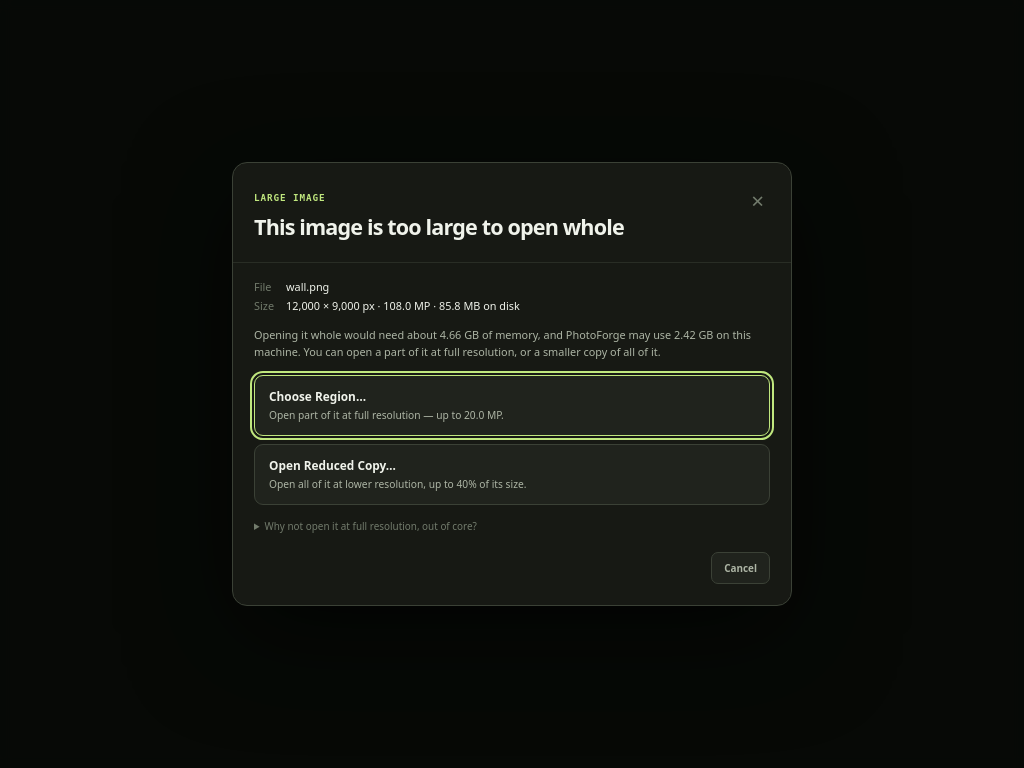
Test: oversized source dialog › opening a reduced copy › states that the copy has less resolution than the file
Click the button "Open Reduced Copy".
click(512, 474)  # box [254,444,770,505]
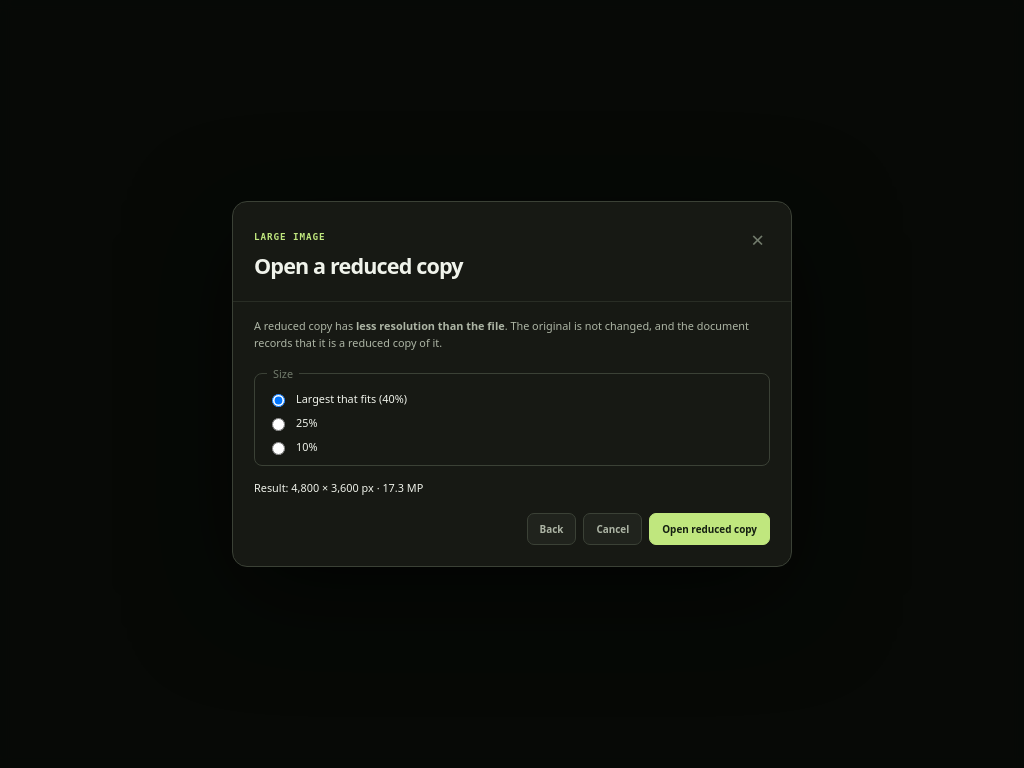
Now the text "less resolution than the file" is shown, box [356,318,505,333]
